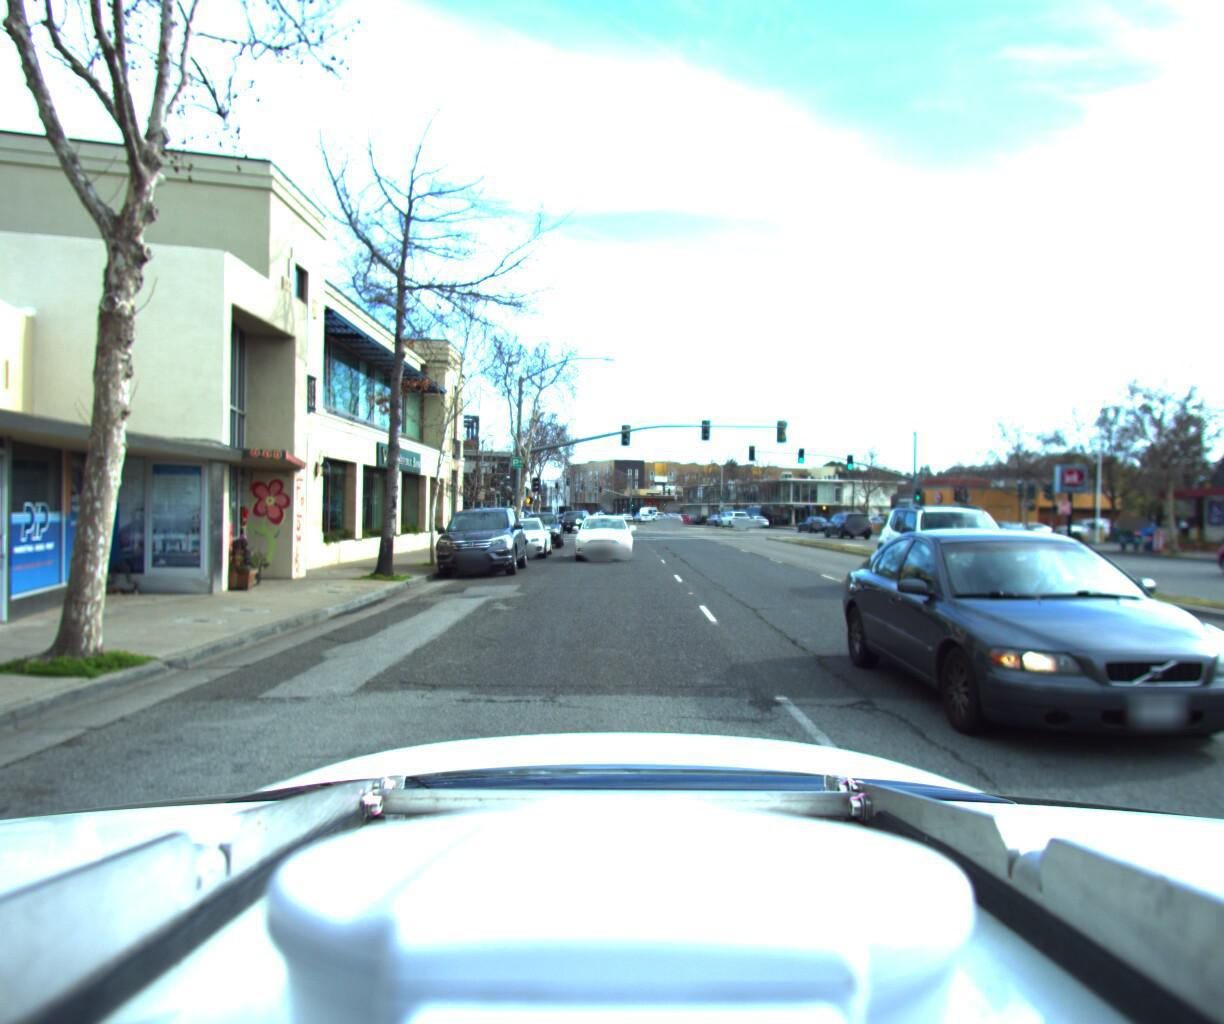car: (851, 520, 1224, 870), (878, 496, 1059, 611), (427, 500, 530, 576), (569, 509, 631, 562), (494, 508, 552, 554), (1189, 514, 1224, 578), (1079, 513, 1151, 538), (1047, 509, 1117, 535), (519, 502, 562, 543), (965, 511, 1025, 539), (991, 513, 1054, 534), (819, 505, 870, 532), (792, 510, 831, 526), (715, 504, 747, 522)
